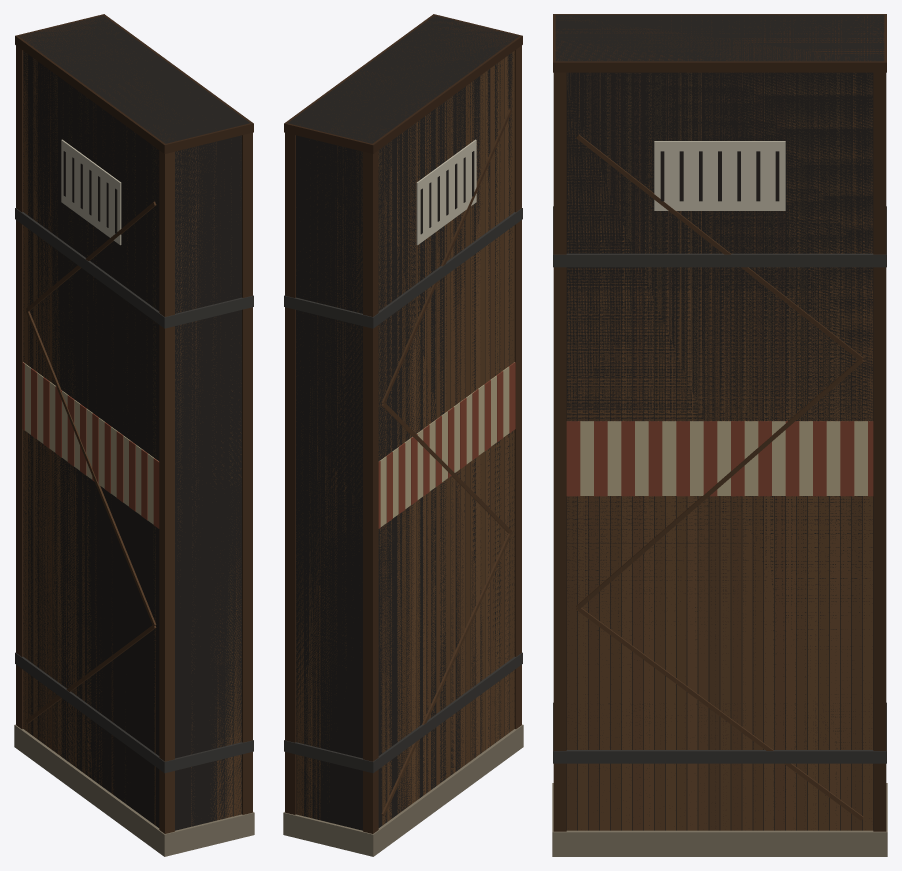
Rendered from flume_bent_32.glb.
The picture shows the model from 3 angles, left to right: view 1: azimuth 30°, elevation 25°; view 2: azimuth 150°, elevation 25°; view 3: azimuth 270°, elevation 25°; orthographic projection. The views are drawn at different scales.
Visible parts, largest first — view 1: flume_bent_32-col-col, flume_bent_32_body; view 2: flume_bent_32_body, flume_bent_32-col-col; view 3: flume_bent_32_body, flume_bent_32-col-col.
Part boxes in pixels (x1,y1,x2,y2): flume_bent_32-col-col: (18, 15, 250, 830); flume_bent_32_body: (14, 14, 254, 856); flume_bent_32_body: (283, 14, 523, 856); flume_bent_32-col-col: (287, 15, 518, 830); flume_bent_32_body: (552, 14, 887, 856); flume_bent_32-col-col: (555, 15, 884, 830).
Bounding box in the file's own units: 4.24 × 32 × 12.24.
